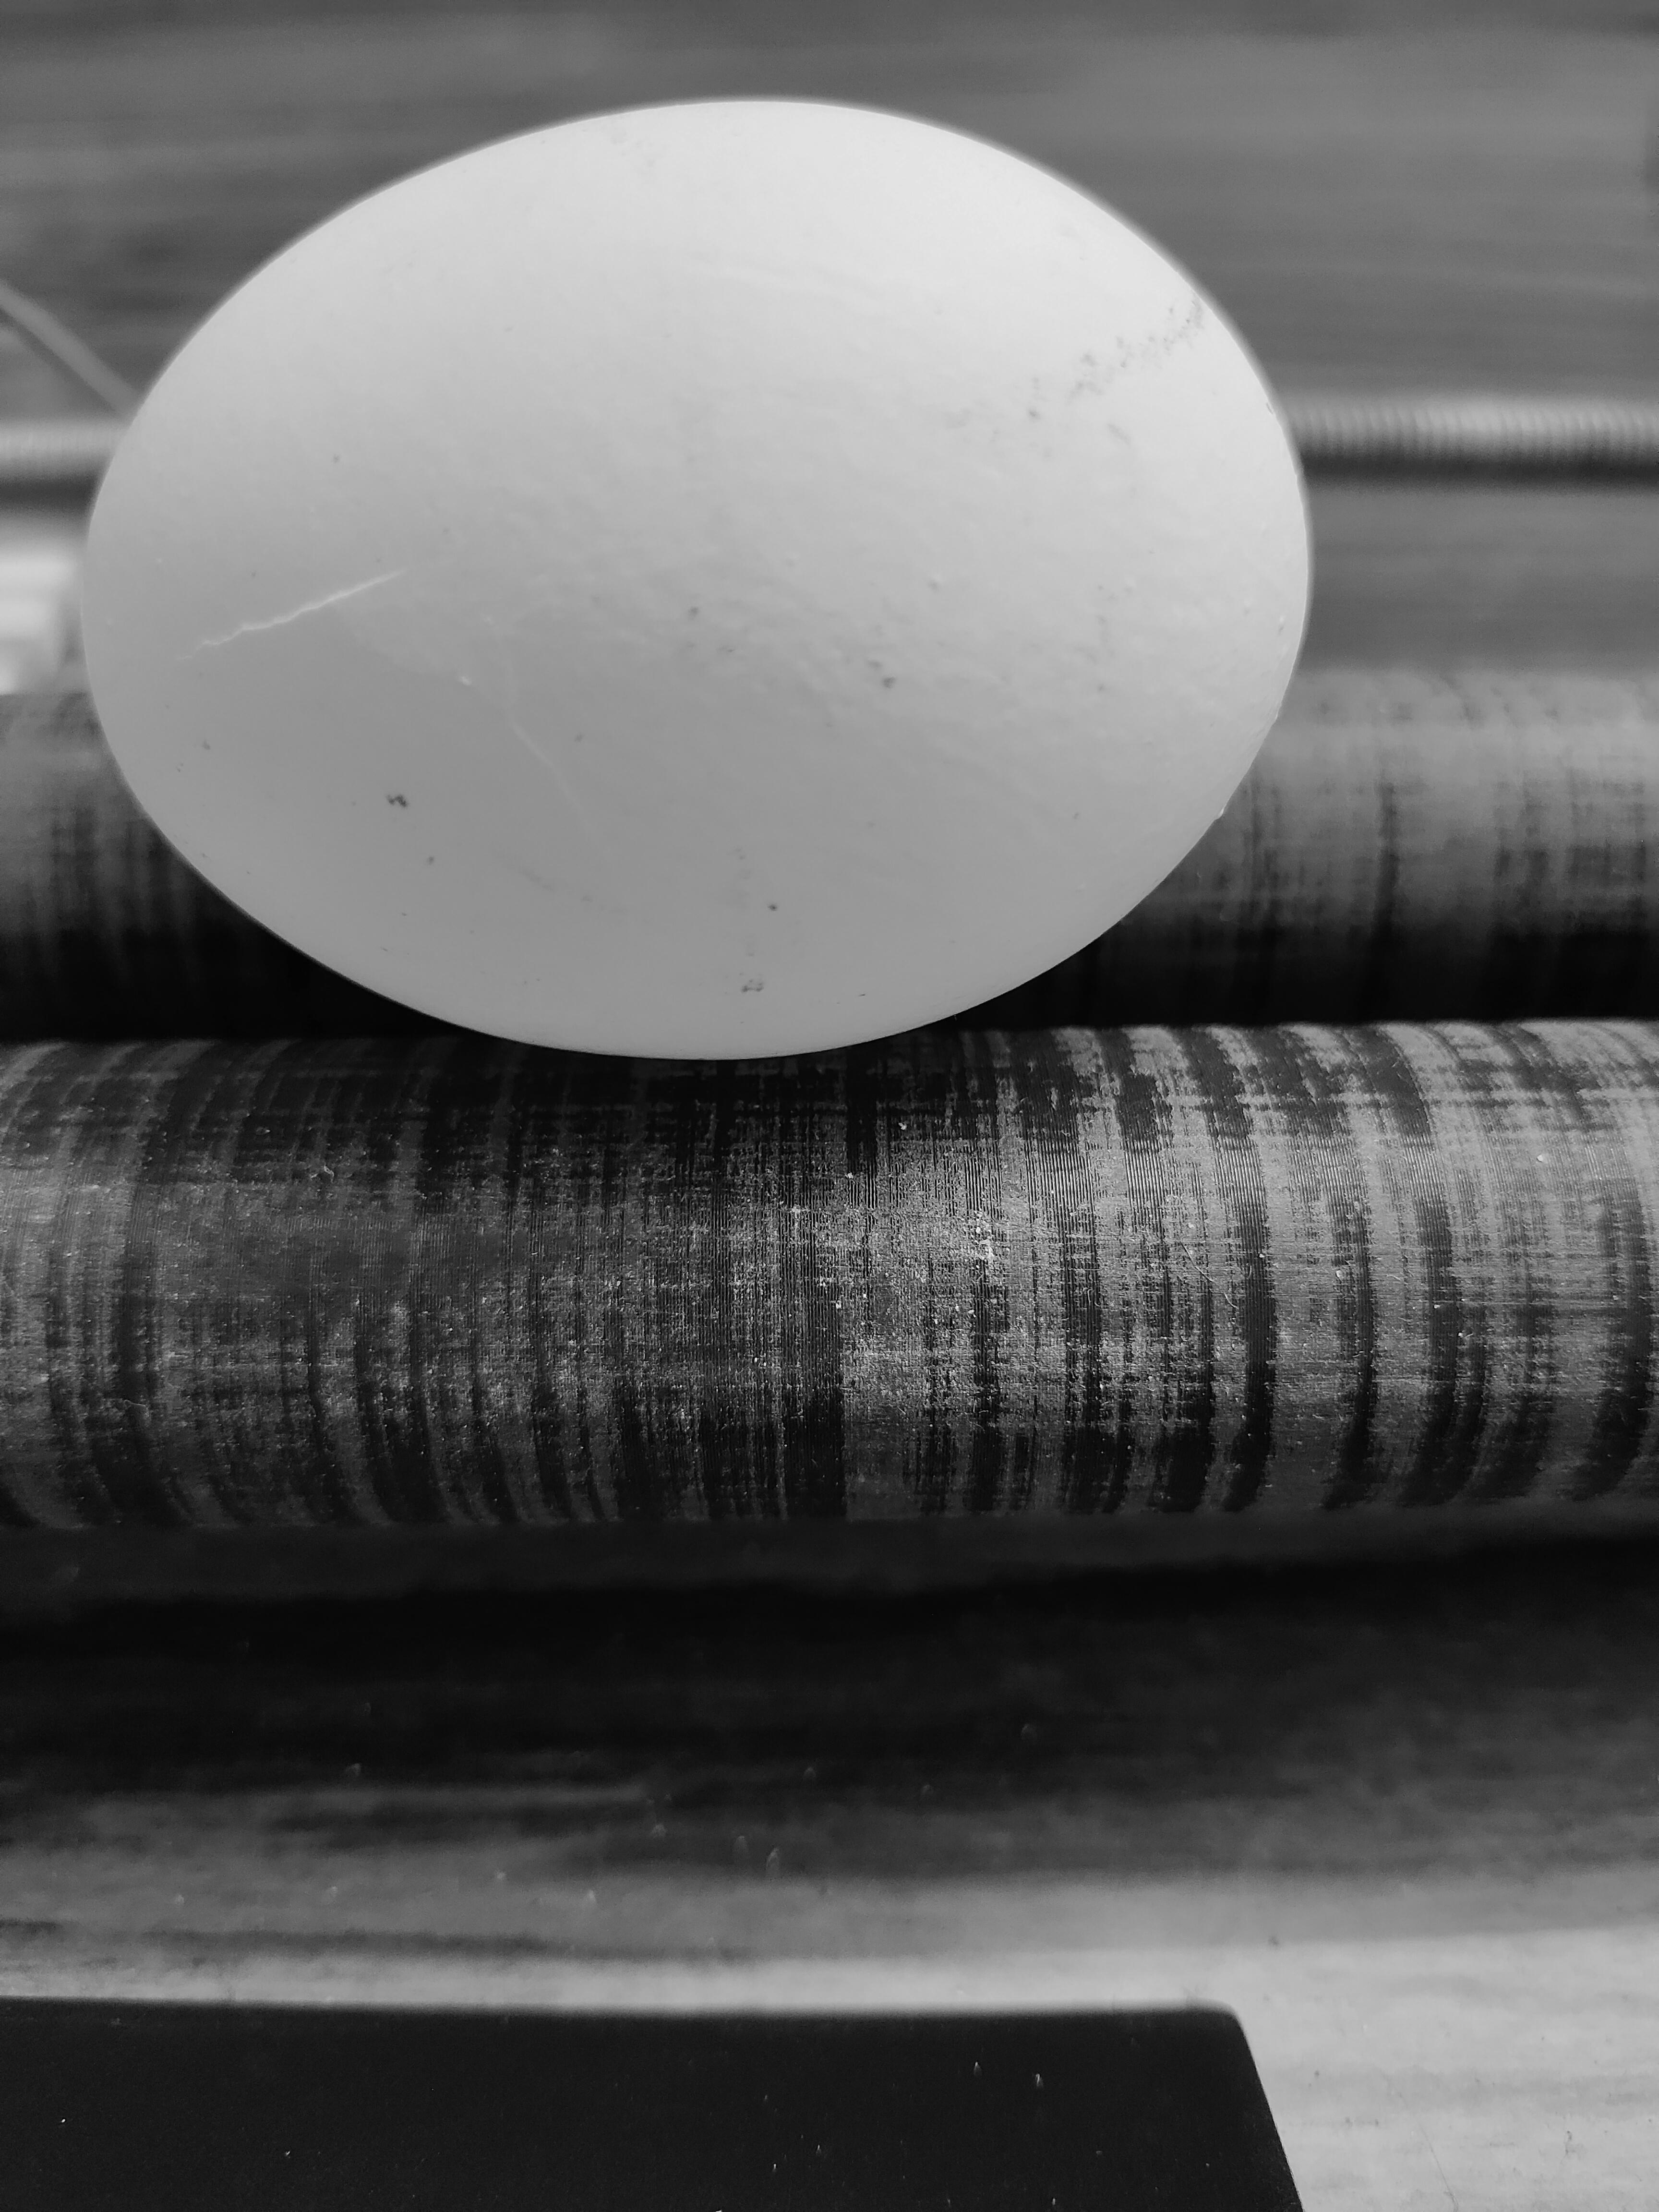telur: (38, 73, 1350, 1106)
